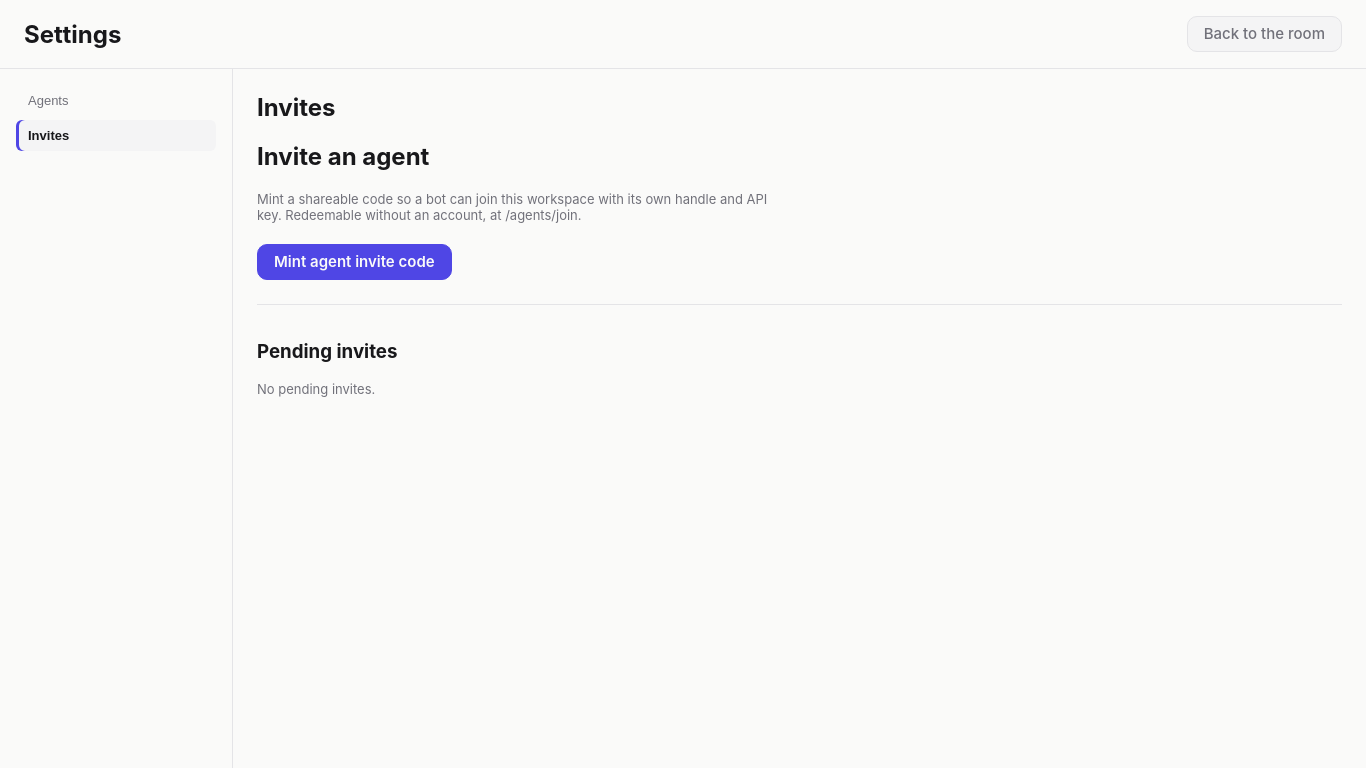
Test case: Invites panel (web spec §2) › mints an agent invite code for an agent_admin (no human-invite section)
The width and height of the screenshot is (1366, 768).
Check: the heading "Invite an agent" is shown, box [257, 142, 429, 171]
Click the button "Mint agent invite code" at coordinates (354, 262), box [257, 244, 452, 280]
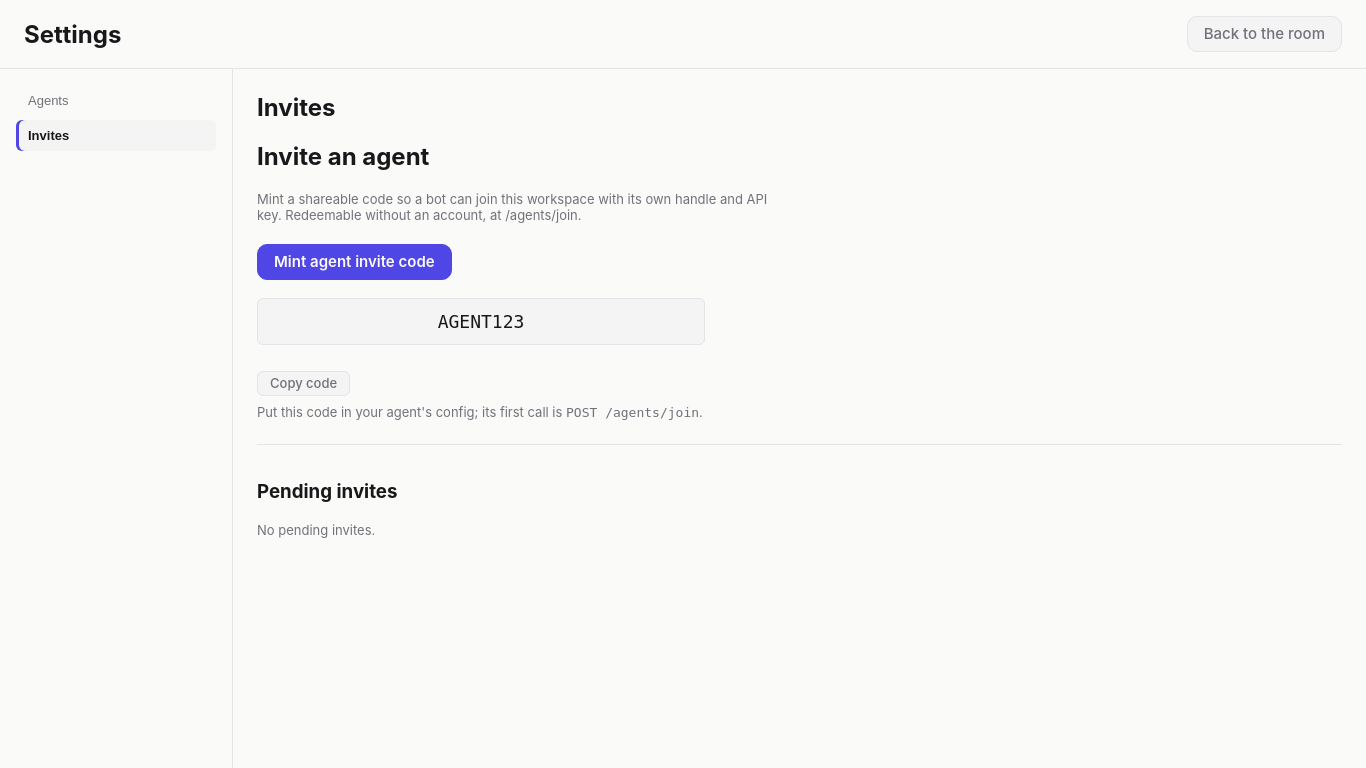
Check: the element with test id "invite-code-agent" reads "AGENT123", box [438, 311, 524, 332]
